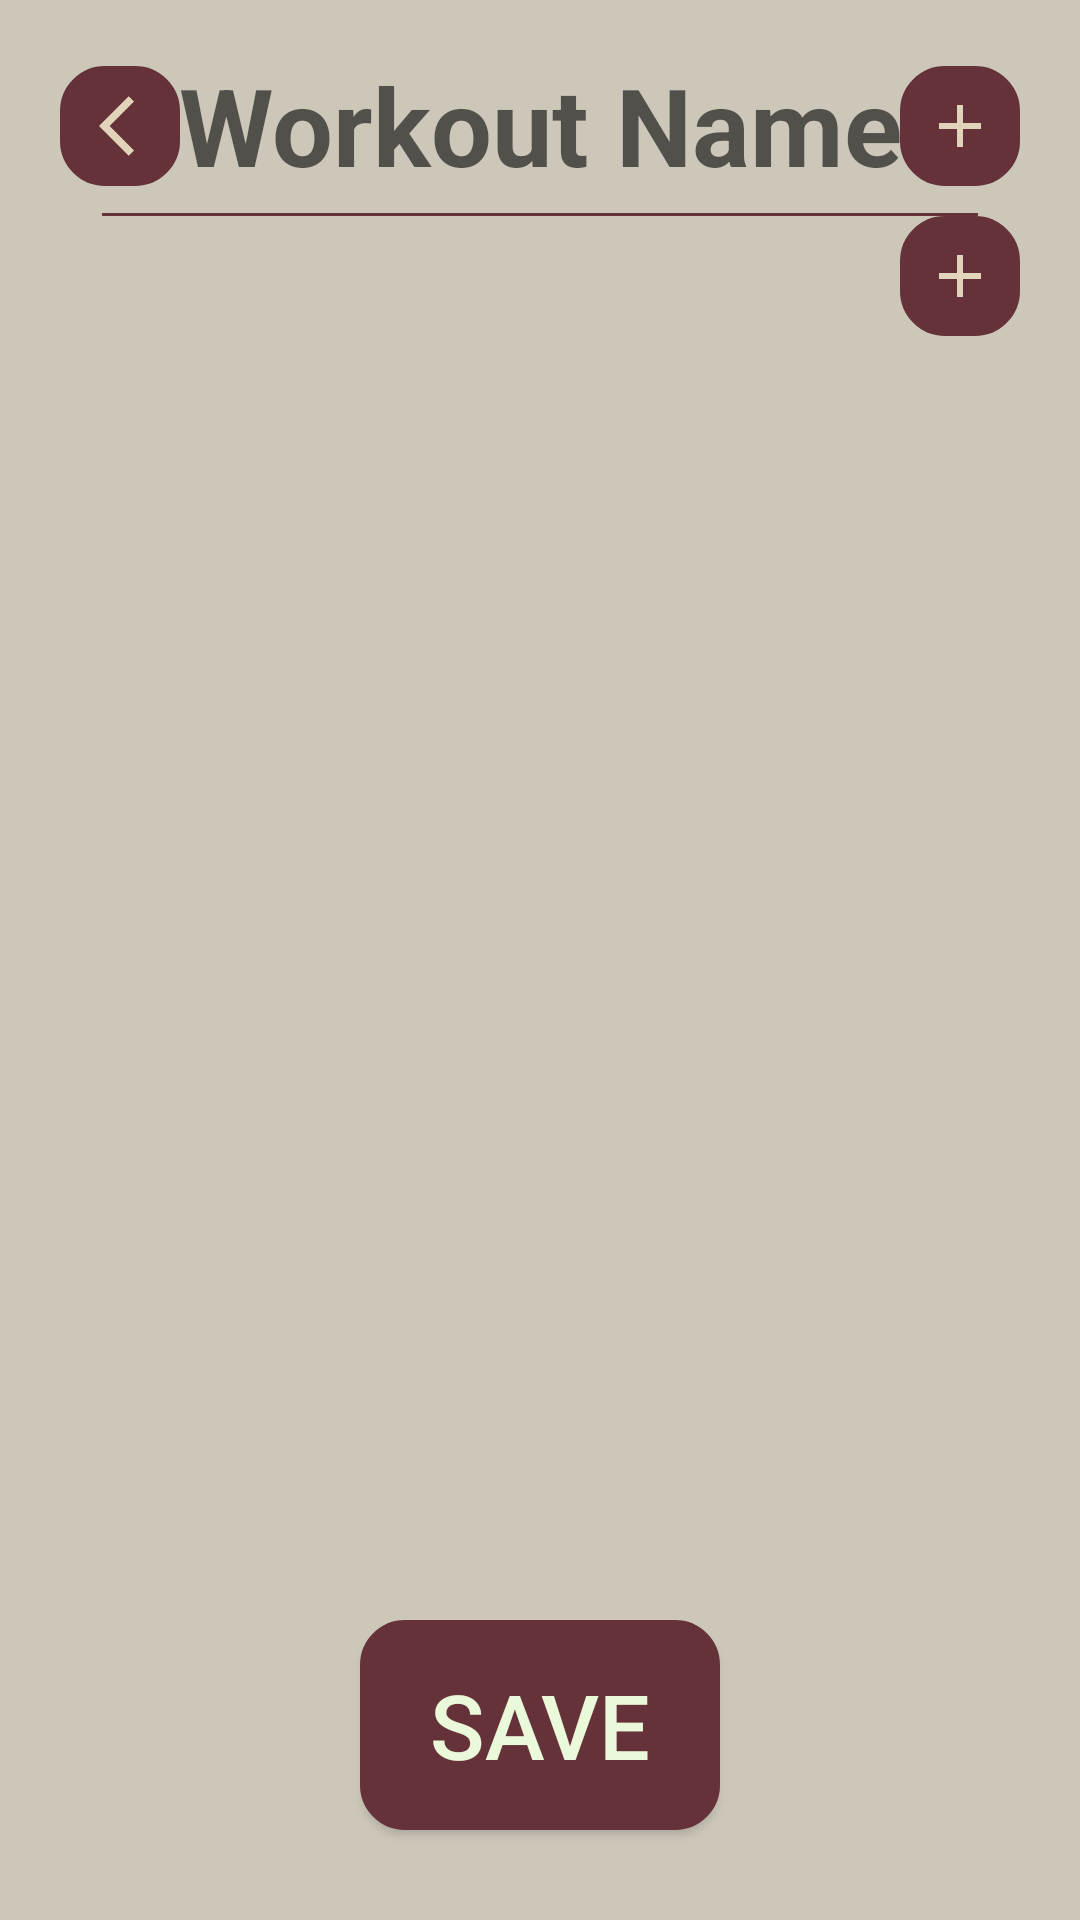

Screen size 1080x1920. Icon name, then its center in pixels as (x=x, y=y):
add: (x=960, y=126), (x=960, y=276)
back: (x=120, y=126)
